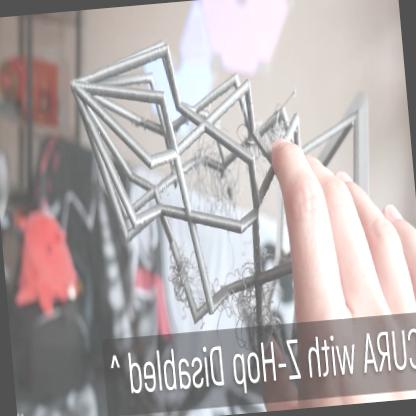fail: (196, 162, 238, 208), (165, 242, 187, 299), (226, 291, 258, 323)
